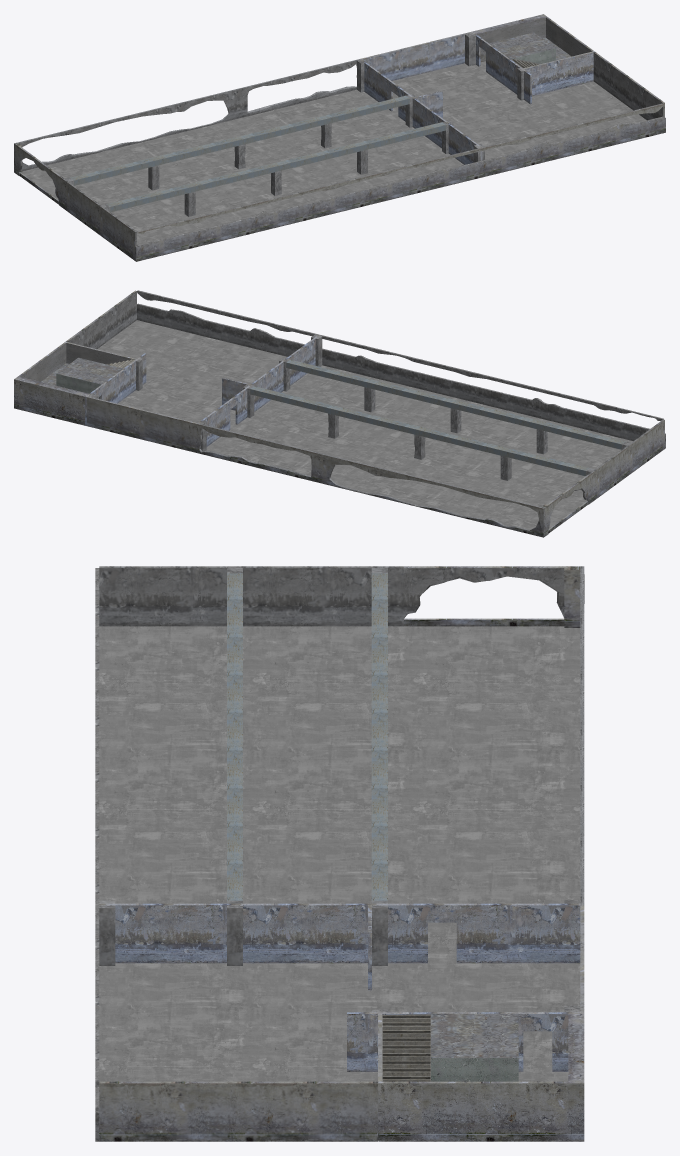
Rendered from Broken_House_01_Part.FBX.
3 views of the same model, one above another, from view 1: azimuth 30°, elevation 25°; view 2: azimuth 150°, elevation 25°; view 3: azimuth 270°, elevation 25° (orthographic). The views are drawn at different scales.
Parts seen in each view (by area): view 1: Broken_House_01Floor_floor, Broken_House_01Floor_a, Broken_House_01Floor_rig, Broken_House_01Floor_wall, Broken_House_01Floor_walls, Broken_House_01Floor_columns, Broken_House_01Floor_column; view 2: Broken_House_01Floor_floor, Broken_House_01Floor_a, Broken_House_01Floor_rig, Broken_House_01Floor_wall, Broken_House_01Floor_columns, Broken_House_01Floor_walls; view 3: Broken_House_01Floor_floor, Broken_House_01Floor_a, Broken_House_01Floor_wall, Broken_House_01Floor_rig, Broken_House_01Floor_walls, Broken_House_01Floor_stair, Broken_House_01Floor_column.
Boxes of the visible parts, x1,y1,x2,y2 form: Broken_House_01Floor_floor: (22,61,646,245); Broken_House_01Floor_a: (14,14,665,261); Broken_House_01Floor_rig: (70,95,445,212); Broken_House_01Floor_wall: (360,31,531,164); Broken_House_01Floor_walls: (489,32,593,96); Broken_House_01Floor_columns: (65,60,480,216); Broken_House_01Floor_column: (410,32,523,160); Broken_House_01Floor_floor: (97,320,632,529); Broken_House_01Floor_a: (14,290,665,537); Broken_House_01Floor_rig: (250,359,625,476); Broken_House_01Floor_wall: (85,335,319,446); Broken_House_01Floor_columns: (200,335,630,500); Broken_House_01Floor_walls: (41,342,135,399); Broken_House_01Floor_floor: (99,626,580,1140); Broken_House_01Floor_a: (95,566,584,1141); Broken_House_01Floor_wall: (99,903,584,1071); Broken_House_01Floor_rig: (227,573,387,900); Broken_House_01Floor_walls: (378,1013,518,1139); Broken_House_01Floor_stair: (382,1015,430,1081); Broken_House_01Floor_column: (99,905,580,1012).
Bounding box in the file's own units: 2747 × 146 × 1099.
